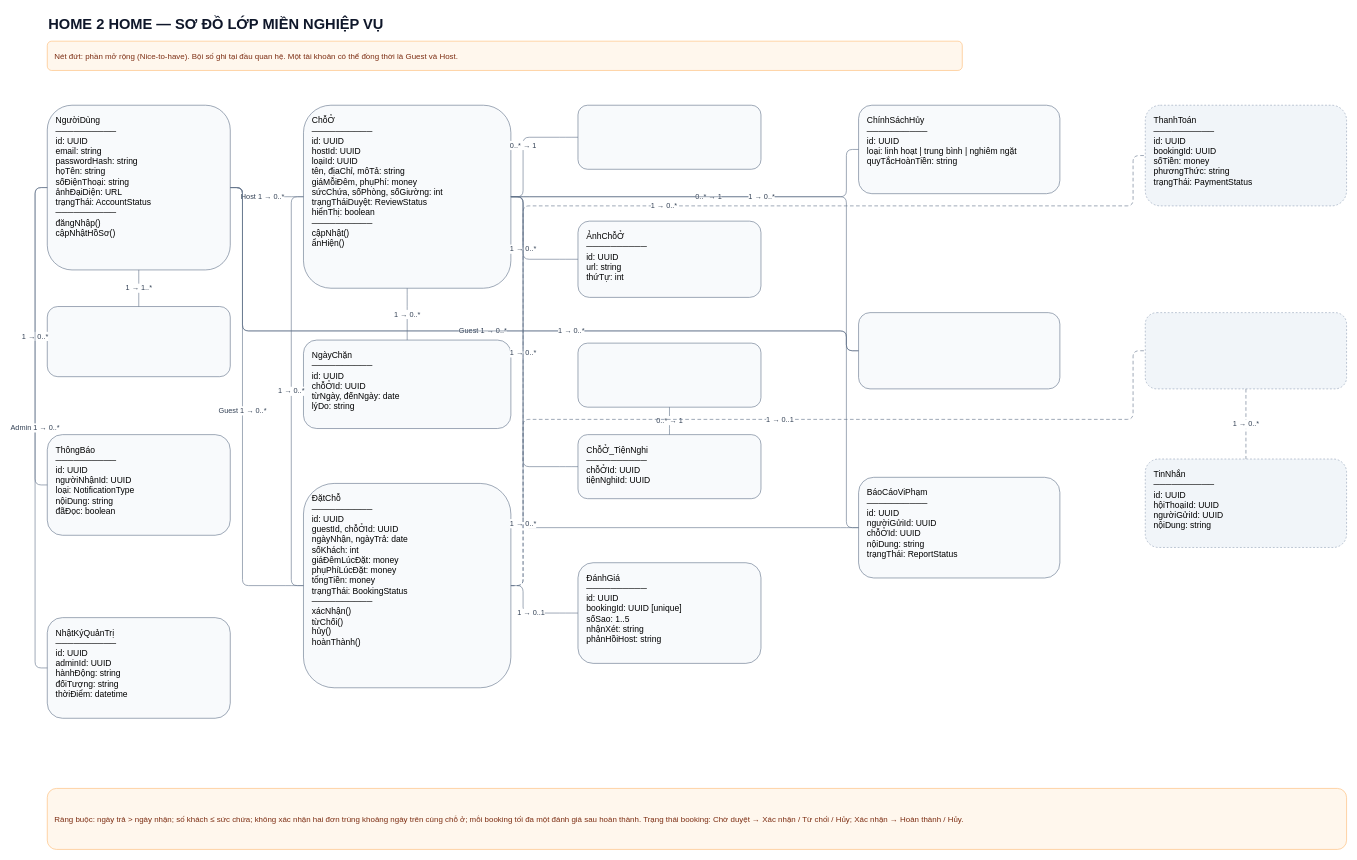
This 1357x860 diagram has some shape labels left out. Each missing label, with the centre of its shape:
"HộiThoại ────────── id: UUID guestId, hostId: UUID bookingId: UUID" goes at pixel 1246 350.
"LoạiChỗỞ ────────── id: UUID tên: string" goes at pixel 669 137.
"TiệnNghi ────────── id: UUID tên: string" goes at pixel 669 375.
"VaiTròNgườiDùng ────────── userId: UUID role: GUEST | HOST | ADMIN" goes at pixel 138 341.
"YêuThích ────────── guestId: UUID chỗỞId: UUID ngàyLưu: datetime" goes at pixel 959 350.
